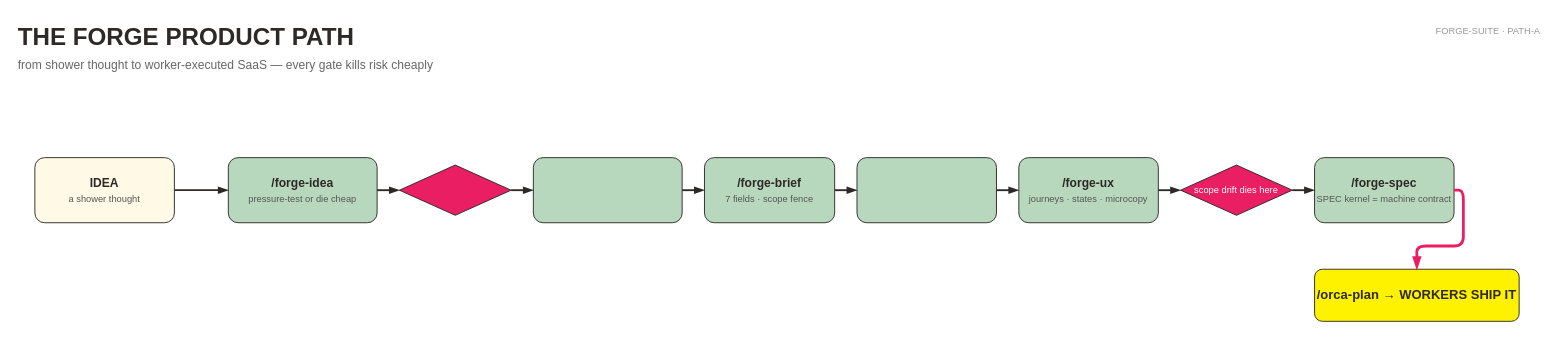
The diagram is 1557 pixels wide and 338 high, and some of its shapes have lost their labels. The box of each missing label's shape, as (x1, y1, x2, y2) in pixels:
/forge-prd testable FRs · traceability: (856, 157, 996, 223)
/forge-prfaq press release before any build: (532, 157, 682, 223)
vague claims die here: (399, 164, 511, 215)
